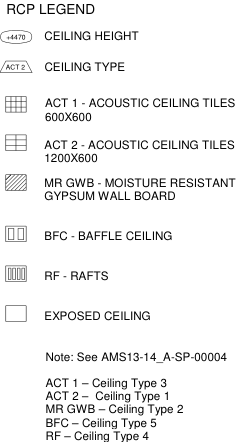hatch: (0, 55, 35, 79), (2, 301, 31, 325), (2, 94, 29, 116), (2, 131, 29, 153), (2, 263, 30, 284), (0, 29, 32, 47), (3, 171, 28, 194), (3, 223, 29, 245)
label: (40, 172, 236, 206), (40, 93, 235, 123), (37, 137, 236, 166), (37, 226, 182, 250), (39, 307, 167, 327), (39, 28, 144, 45), (40, 264, 121, 285), (43, 59, 128, 75)
